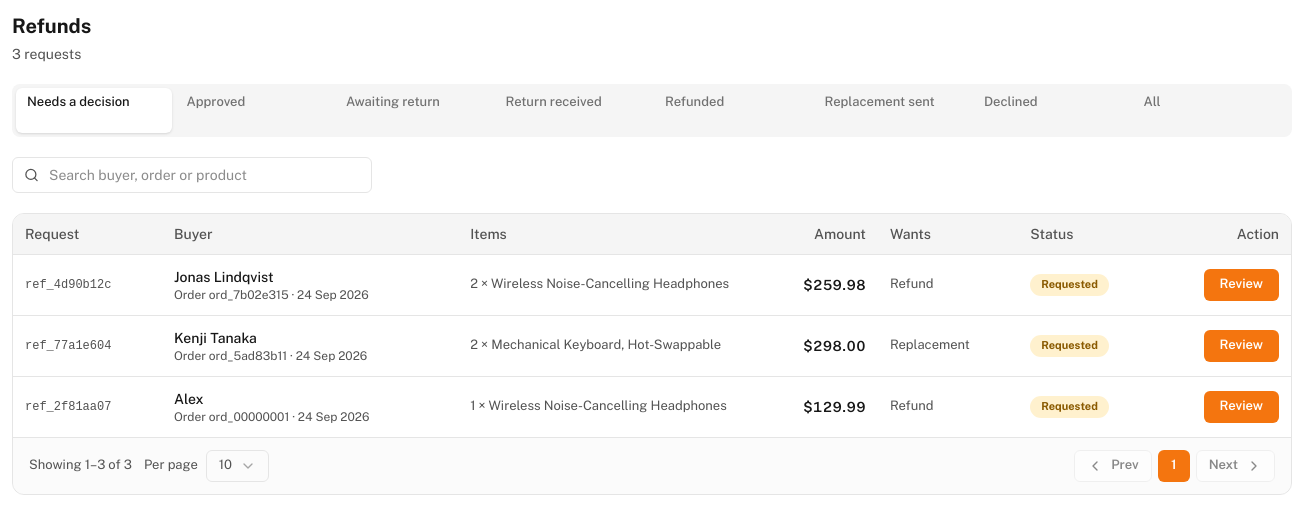
Test: SellerRefunds › still lists the queue when the counts fail
The image size is (1292, 512).
Expected: the text "ref_4d90b12c" is shown, [13,254,162,315]
Expected: the text "3 requests" is shown, [12,46,81,62]
Click the tab "Awaiting return" at (413, 110), box [335,88,490,133]
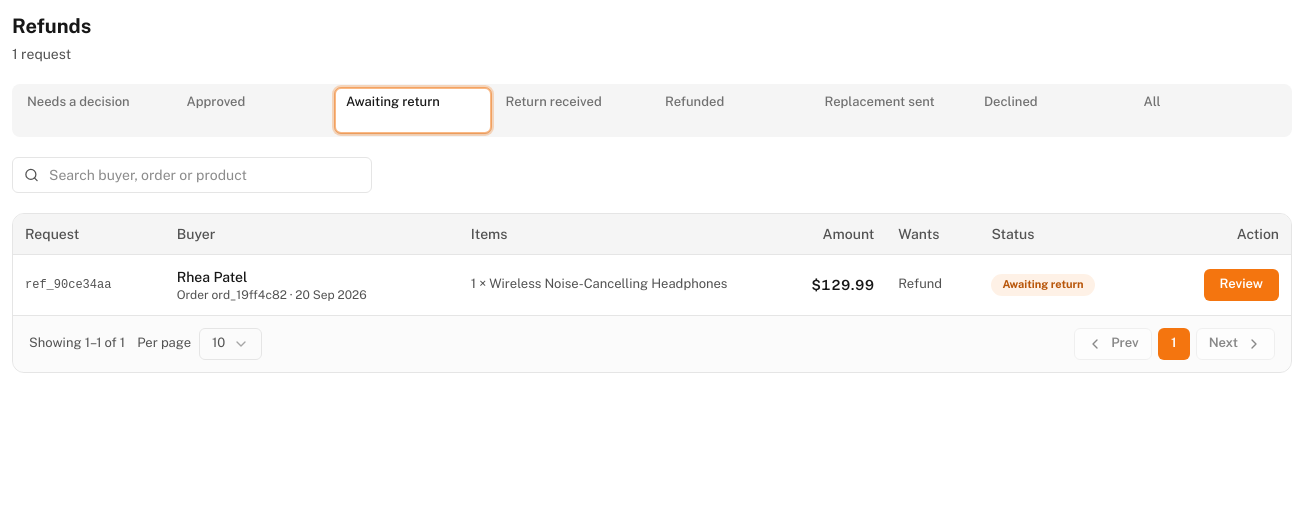
Expected: the text "ref_90ce34aa" is shown, [13,254,165,314]
Expected: the text "ref_4d90b12c" is gone
